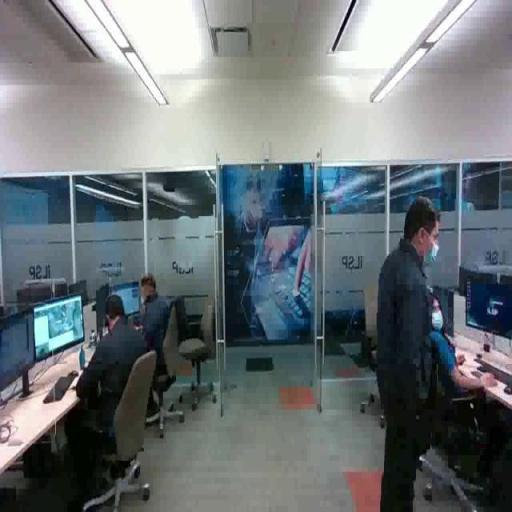person: (19, 295, 154, 502), (371, 192, 445, 512), (117, 276, 195, 424), (427, 289, 499, 423)
